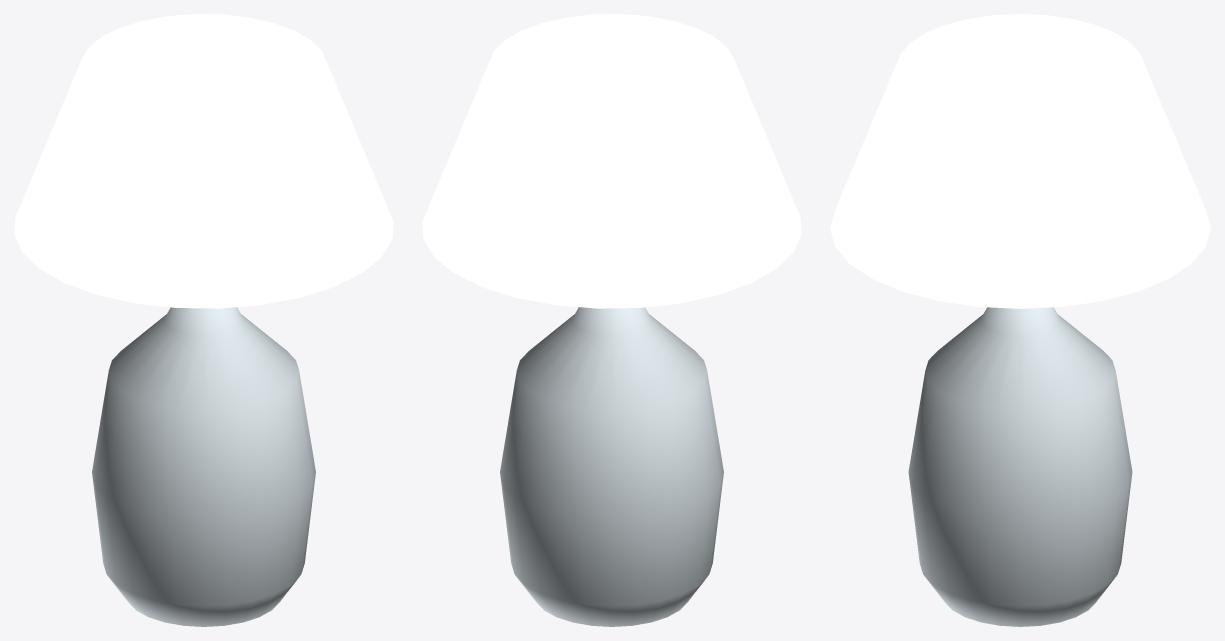
File: table_lamp.glb
3 renders of one model, left to right at view 1: azimuth 30°, elevation 25°; view 2: azimuth 150°, elevation 25°; view 3: azimuth 270°, elevation 25°, orthographic.
Parts seen in each view (by area): view 1: TableLamp; view 2: TableLamp; view 3: TableLamp.
Part boxes in pixels (<box>): TableLamp: <box>14,14,393,626</box>; TableLamp: <box>422,14,801,626</box>; TableLamp: <box>830,14,1210,626</box>.
Bounding box in the file's own units: 0.34 × 0.52 × 0.34.
3 materials, 1 textured.
